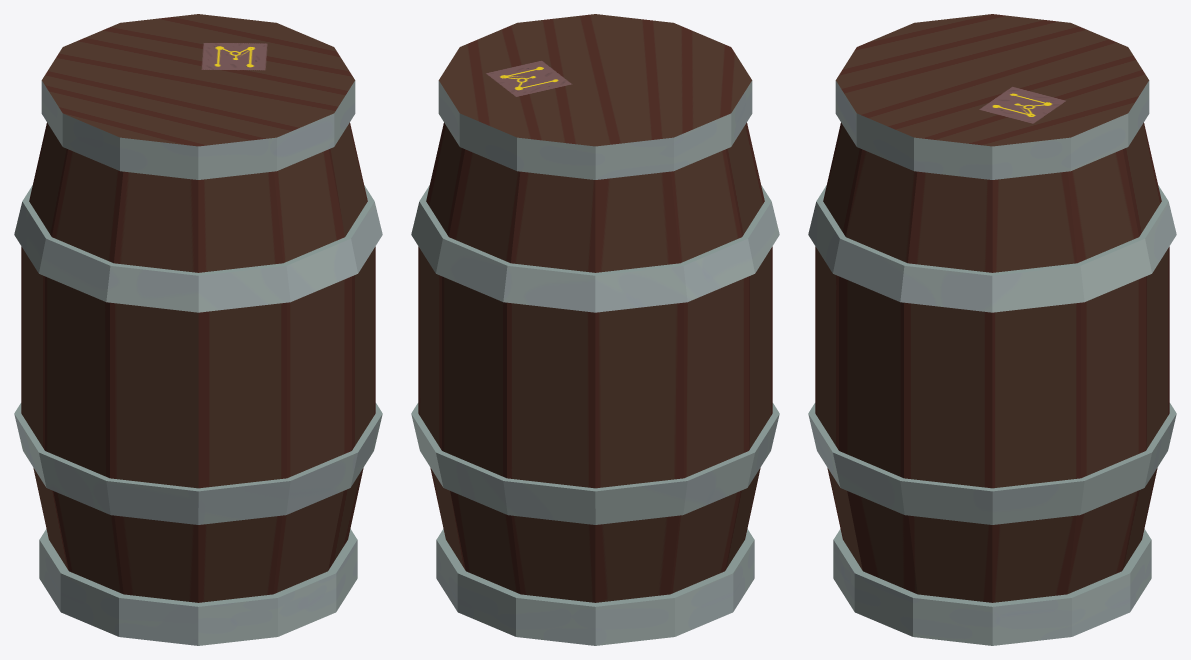
Rendered from wooden barrel.fbx.
The picture shows the model from 3 angles, left to right: view 1: azimuth 30°, elevation 25°; view 2: azimuth 150°, elevation 25°; view 3: azimuth 270°, elevation 25°; orthographic projection.
Visible parts, largest first — view 1: pCylinder1; view 2: pCylinder1; view 3: pCylinder1.
Part boxes in pixels (box(x1,y1,x2,y2)): pCylinder1: box(14, 14, 382, 645); pCylinder1: box(411, 14, 779, 645); pCylinder1: box(808, 14, 1176, 645).
Bounding box in the file's own units: 35.36 × 52.77 × 35.36.
